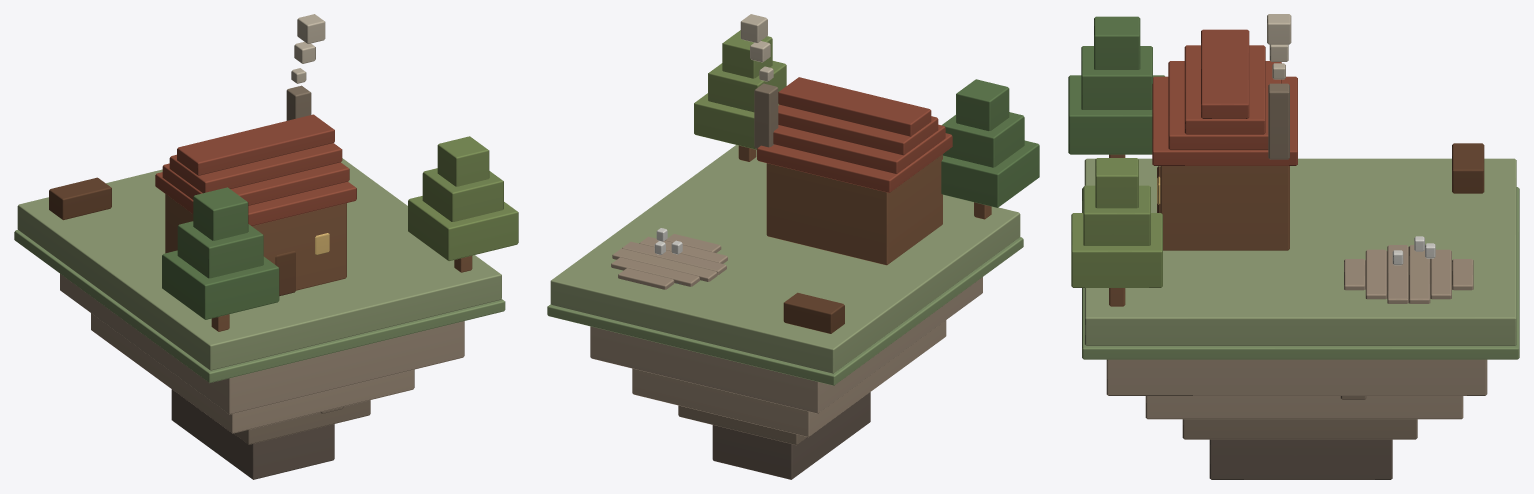
Rendered from region_28.glb.
The picture shows the model from 3 angles, left to right: view 1: azimuth 30°, elevation 25°; view 2: azimuth 150°, elevation 25°; view 3: azimuth 270°, elevation 25°; orthographic projection. The views are drawn at different scales.
Parts seen in each view (by area): view 1: region_28_static, region_28_smoke; view 2: region_28_static, region_28_smoke; view 3: region_28_static, region_28_smoke, region_28_steam.
Part boxes in pixels (left/top/right/bottom): region_28_static: left=14, top=85, right=518, bottom=479; region_28_smoke: left=291, top=14, right=325, bottom=83; region_28_static: left=547, top=30, right=1039, bottom=479; region_28_smoke: left=740, top=14, right=773, bottom=81; region_28_static: left=1068, top=16, right=1519, bottom=479; region_28_smoke: left=1267, top=14, right=1291, bottom=79; region_28_steam: left=1392, top=236, right=1435, bottom=265.
Size of the model in its own units: 7.55 by 9.52 by 8.35.
